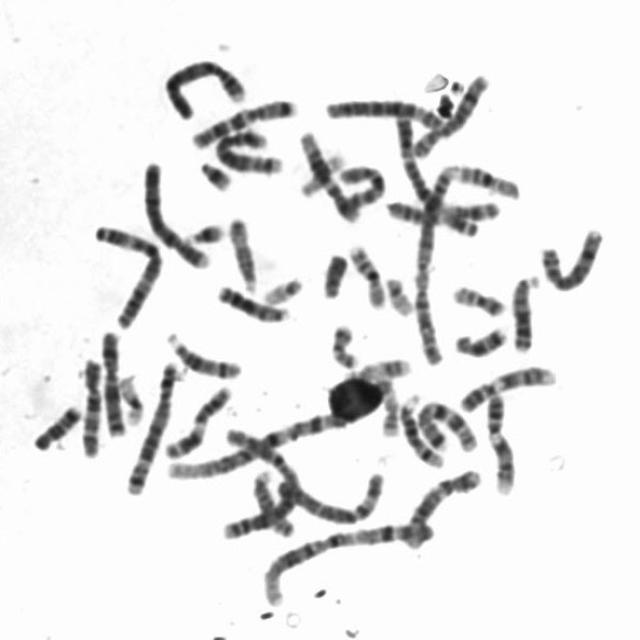A1: (160, 395, 376, 481), (257, 513, 439, 609)
A2: (410, 156, 463, 368), (219, 422, 304, 540)
A3: (392, 108, 504, 228), (88, 214, 170, 330)
B4: (137, 150, 216, 272), (158, 49, 252, 121)
B5: (121, 352, 184, 498), (211, 120, 287, 176)
C10: (75, 349, 107, 459), (334, 155, 390, 216)
C11: (160, 377, 237, 461), (380, 188, 501, 232)
C12: (399, 460, 487, 551), (294, 122, 364, 223)
C6: (271, 462, 390, 526), (321, 90, 452, 131)
C7: (186, 89, 302, 150), (412, 392, 482, 454)
C8: (407, 65, 494, 159), (535, 219, 610, 294)
C9: (456, 356, 562, 414), (480, 383, 522, 497)
D13: (212, 276, 294, 324), (507, 264, 545, 354)
D14: (161, 324, 247, 381), (394, 386, 449, 470)
D15: (246, 462, 300, 539), (224, 208, 264, 294)
E16: (343, 235, 392, 308), (449, 156, 526, 201)
E17: (328, 350, 416, 404), (371, 372, 404, 438)
E18: (28, 397, 87, 452), (450, 318, 512, 359)
F19: (294, 144, 350, 198), (113, 367, 149, 427)
F20: (446, 276, 512, 318), (326, 315, 364, 371)
G21: (194, 152, 237, 193), (181, 213, 230, 246)
G22: (258, 268, 309, 306), (381, 267, 419, 317)
X: (96, 321, 130, 439)
Y: (317, 244, 353, 300)
